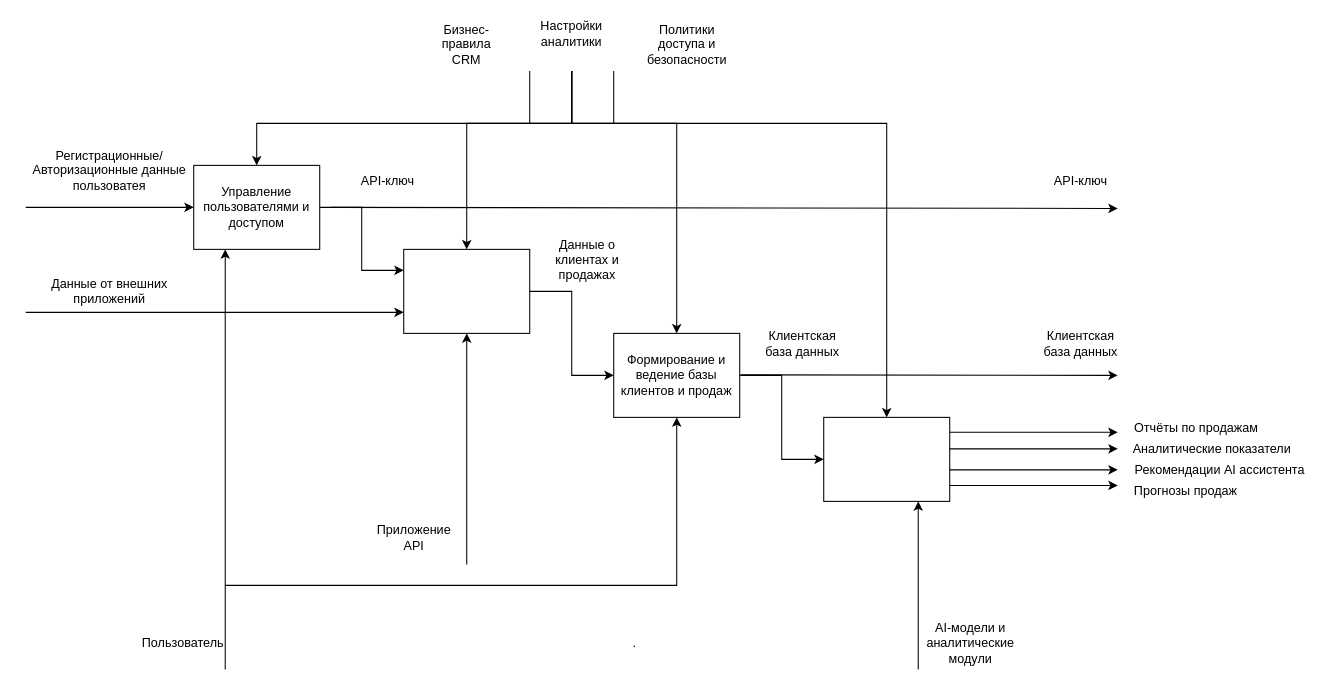
The diagram is 1330 pixels wide and 696 high, and some of its shapes have lost their labels. Each missing label, with the centre of its shape:
"Аналитическая обработка данных и обработка данных AI-ассистентом" goes at point 886,458.
"Приём данных через API" goes at point 466,290.
